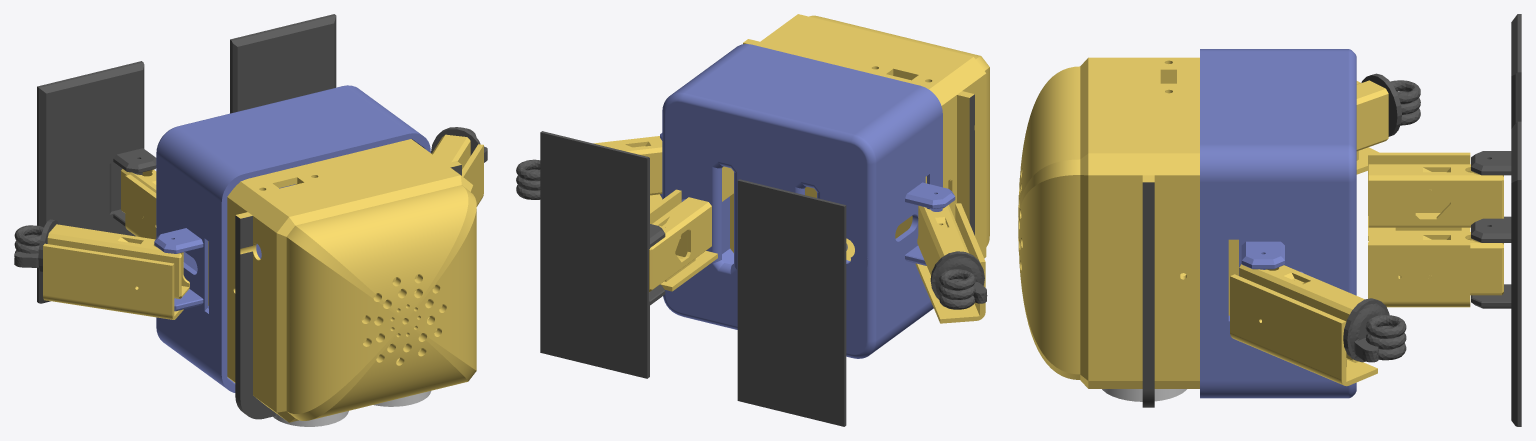
Rendered from OTTOGLTF.glb.
The picture shows the model from 3 angles, left to right: view 1: azimuth 30°, elevation 25°; view 2: azimuth 150°, elevation 25°; view 3: azimuth 270°, elevation 25°; orthographic projection. The views are drawn at different scales.
Size of the model in its own units: 29.76 by 14.05 by 24.4.
